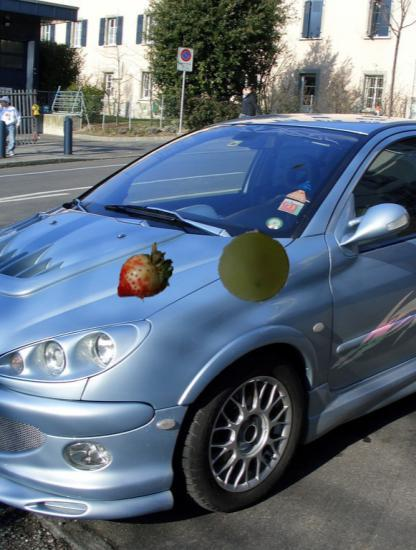Grape: (218, 231, 291, 304)
Strawberry: (115, 243, 176, 304)
